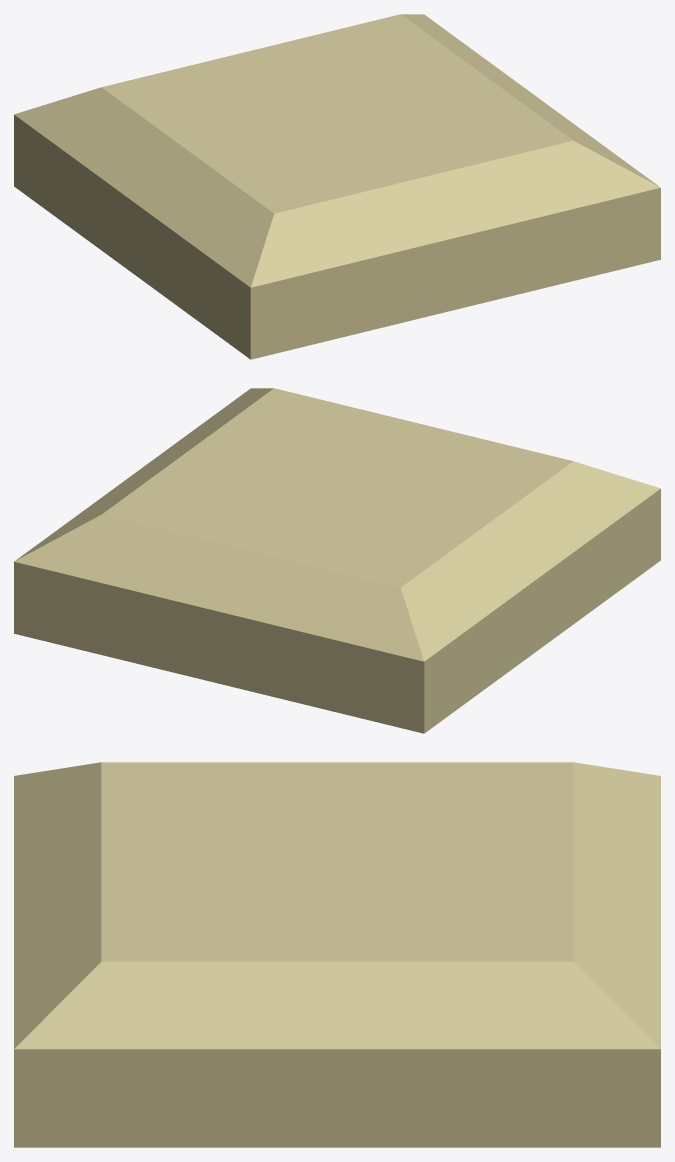
The model's file is Shrine.fbx.
3 views of the same model, one above another, from view 1: azimuth 30°, elevation 25°; view 2: azimuth 150°, elevation 25°; view 3: azimuth 270°, elevation 25° (orthographic). The views are drawn at different scales.
Visible parts, largest first — view 1: Shrine; view 2: Shrine; view 3: Shrine.
Part boxes in pixels (bbox=[...]): Shrine: bbox=[14, 14, 660, 359]; Shrine: bbox=[14, 388, 660, 733]; Shrine: bbox=[14, 762, 660, 1147].
Size of the model in its own units: 200 by 50.85 by 200.
